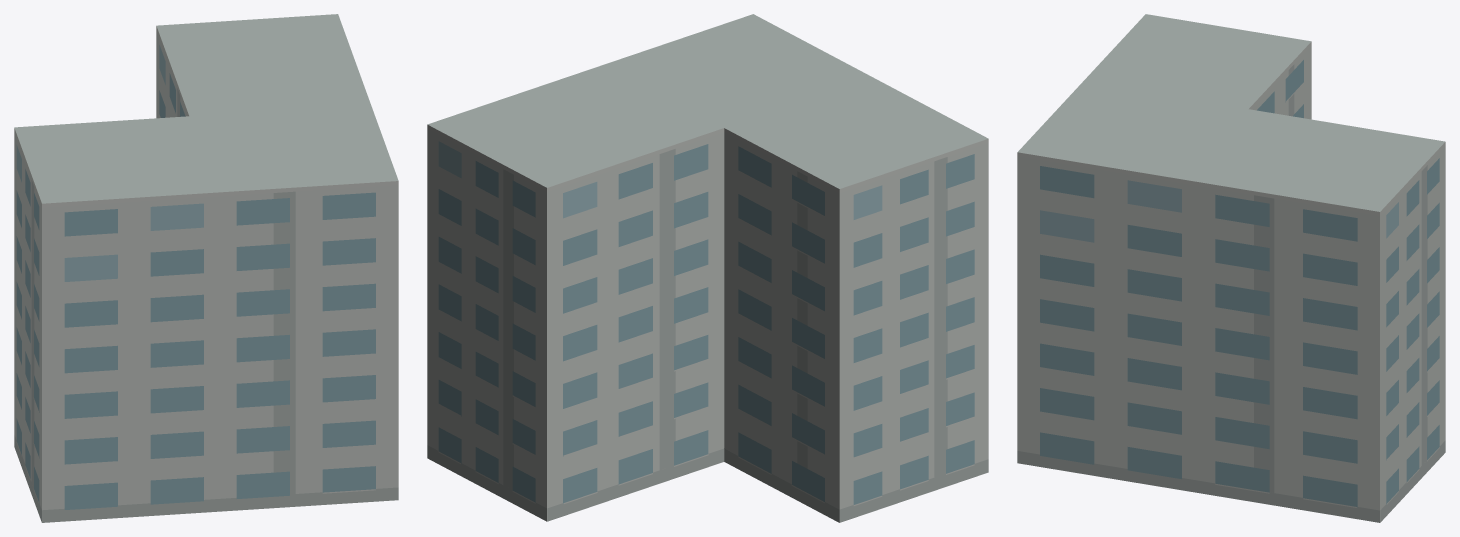
The model's file is survey-upis-32811903.glb.
The picture shows the model from 3 angles, left to right: view 1: azimuth 30°, elevation 25°; view 2: azimuth 150°, elevation 25°; view 3: azimuth 270°, elevation 25°; orthographic projection. The views are drawn at different scales.
Parts seen in each view (by area): view 1: survey-upis-32811903.tmp; view 2: survey-upis-32811903.tmp; view 3: survey-upis-32811903.tmp.
Boxes of the visible parts, x1=… form: survey-upis-32811903.tmp: x1=14, y1=14, x2=398, y2=522; survey-upis-32811903.tmp: x1=427, y1=14, x2=988, y2=522; survey-upis-32811903.tmp: x1=1017, y1=14, x2=1445, y2=522.
Bounding box in the file's own units: 25.84 × 18.92 × 23.62.
